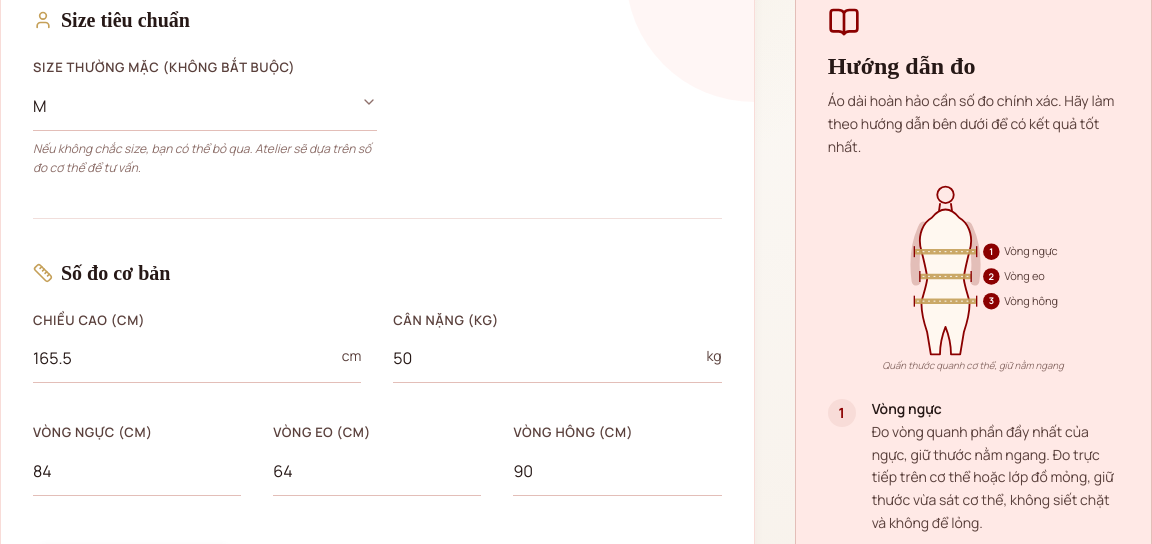
Test: CustomerMeasurementsPage › loads and saves the latest customer measurements
Select "L" in the dropdown labelled "Size thường mặc (không bắt buộc)". click: (205, 106)
box: [33, 82, 377, 130]
(page scrolled)
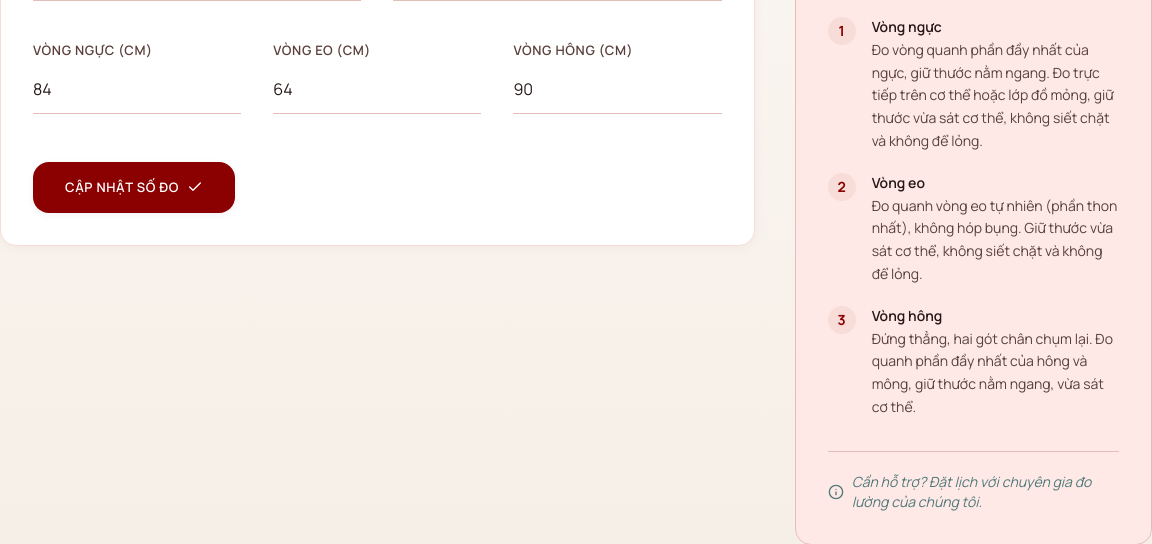
Click the button "Cập nhật số đo". click: (134, 187)
box: [33, 162, 235, 213]
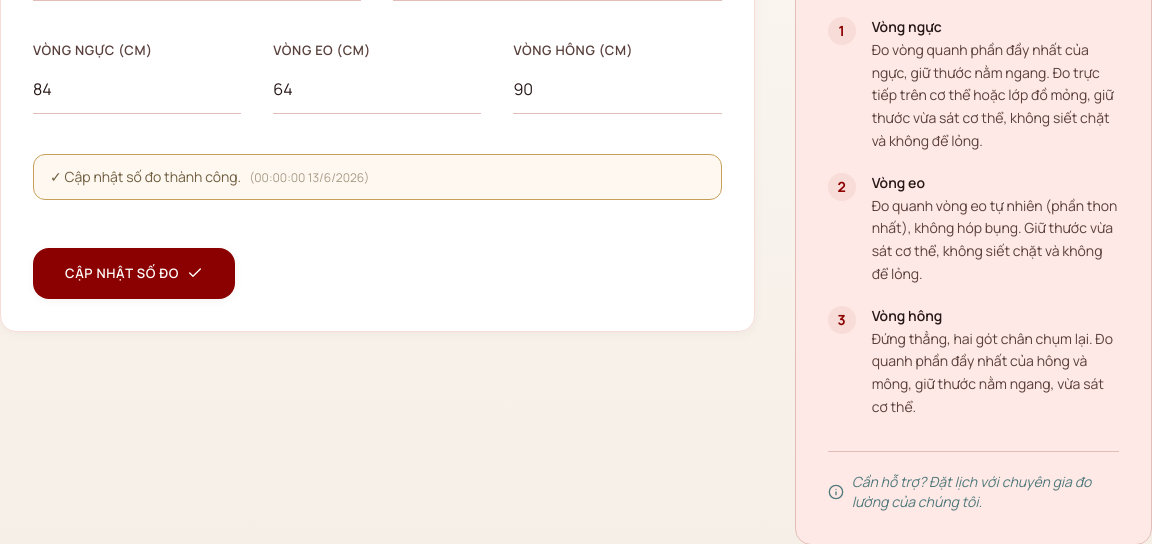
Expected: the text "✓ Cập nhật số đo thành công.(00:00:00 13/6/2026)" is shown, [33, 154, 722, 200]
